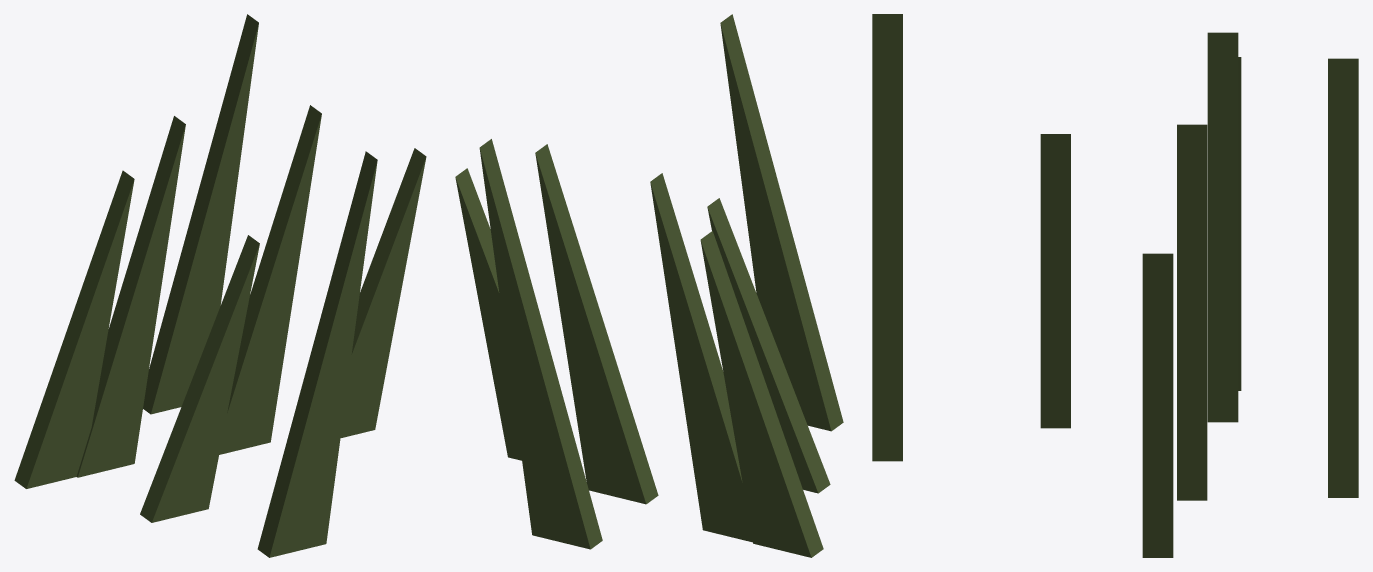
File: SM_ENV_Grass_01_Meadow.glb
The picture shows the model from 3 angles, left to right: view 1: azimuth 30°, elevation 25°; view 2: azimuth 150°, elevation 25°; view 3: azimuth 270°, elevation 25°; orthographic projection. The views are drawn at different scales.
Parts seen in each view (by area): view 1: SM_ENV_Grass_01_Meadow; view 2: SM_ENV_Grass_01_Meadow; view 3: SM_ENV_Grass_01_Meadow.
Part boxes in pixels (x1,y1,x2,y2): SM_ENV_Grass_01_Meadow: [14, 14, 426, 557]; SM_ENV_Grass_01_Meadow: [455, 14, 843, 557]; SM_ENV_Grass_01_Meadow: [872, 14, 1358, 557].
Size of the model in its own units: 0.3278 by 0.3116 by 0.2864.
